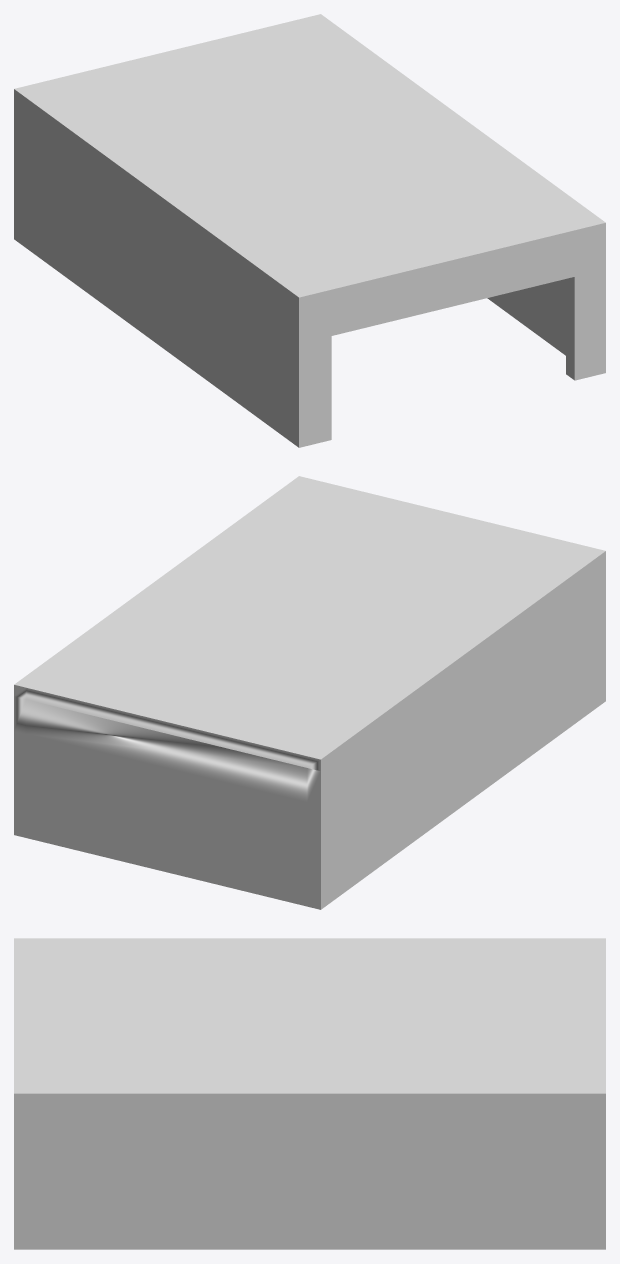
File: quan_bun_dau.fbx
3 renders of one model, top to bottom at view 1: azimuth 30°, elevation 25°; view 2: azimuth 150°, elevation 25°; view 3: azimuth 270°, elevation 25°, orthographic. The views are drawn at different scales.
Parts seen in each view (by area): view 1: Restaurant; view 2: Restaurant; view 3: Restaurant.
Boxes of the visible parts, <box> form: Restaurant: <box>14,14,605,447</box>; Restaurant: <box>14,476,605,909</box>; Restaurant: <box>14,938,605,1249</box>.
Bounding box in the file's own units: 2145 × 1004 × 3451.
Materials: 1 (1 with a texture image).
